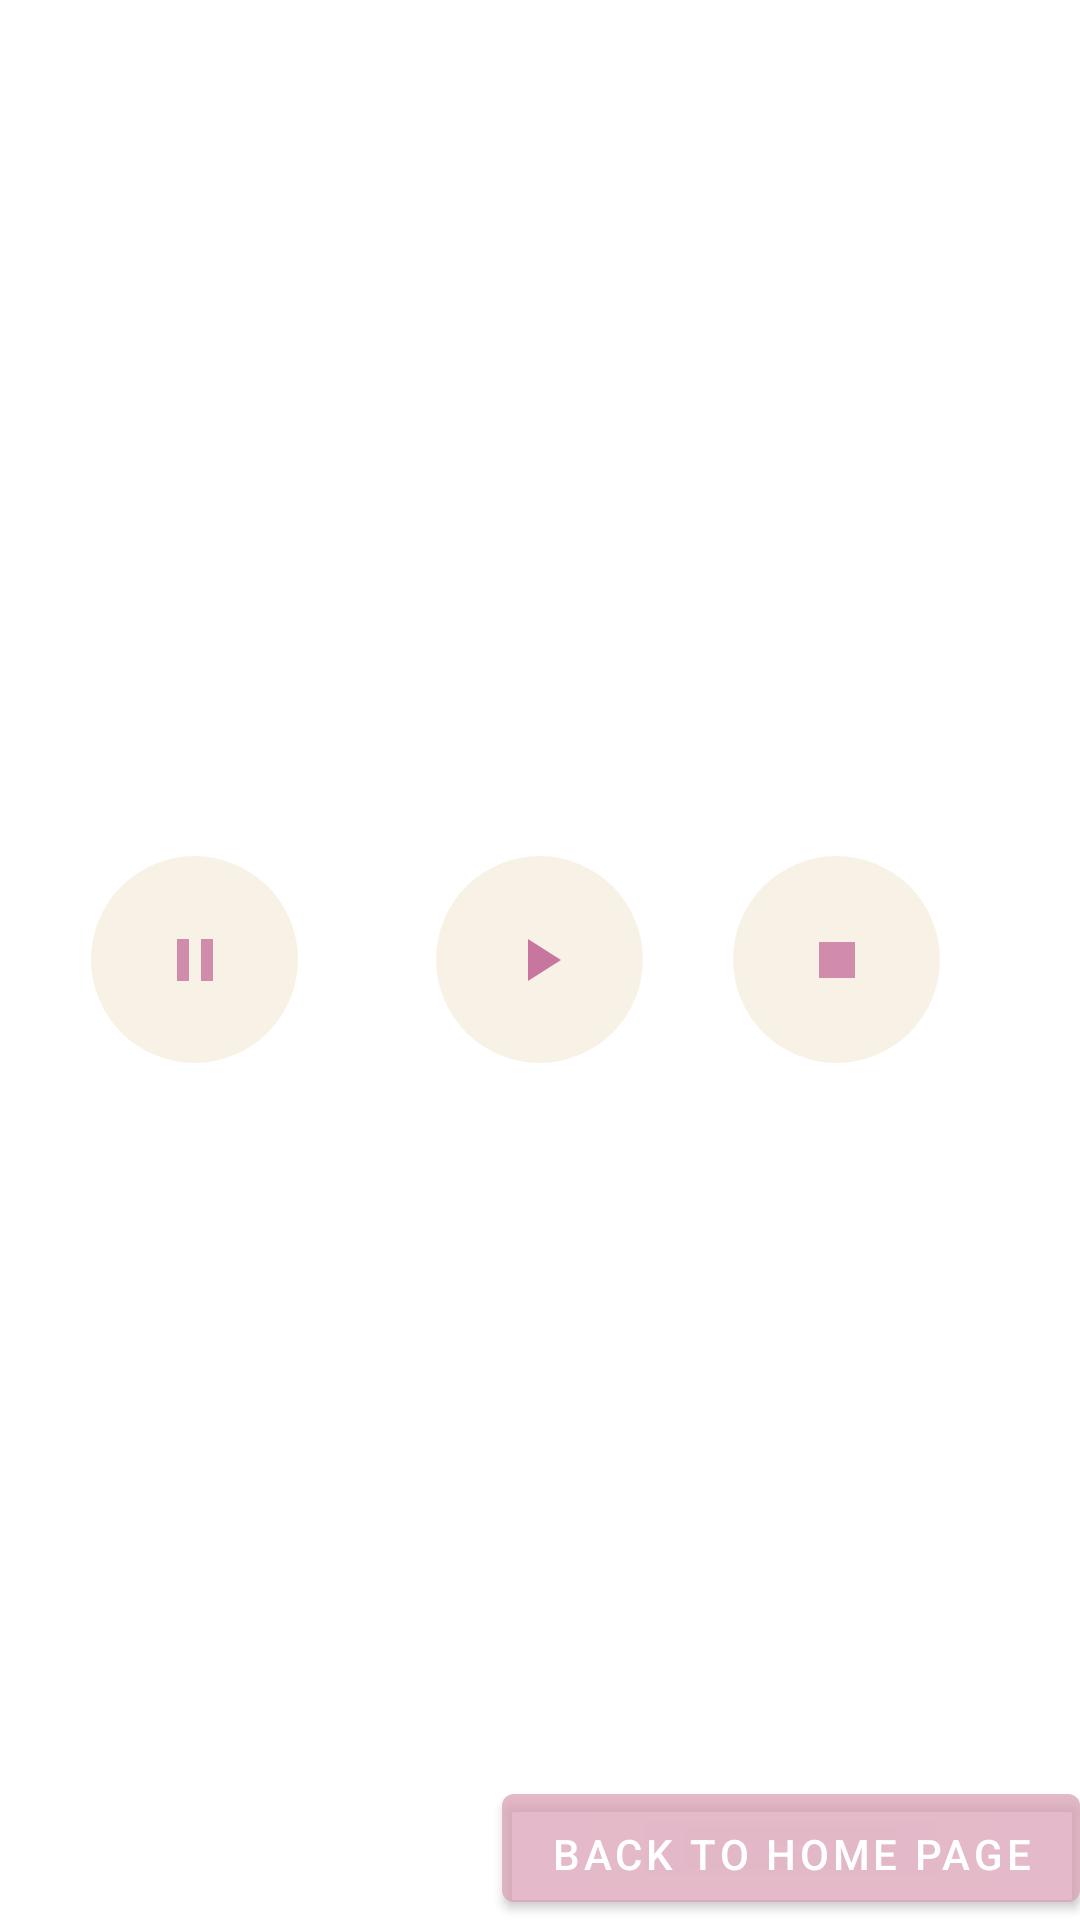

Where to tap for icons on this 1080px x 1920px app screen, as (x=x, y=y):
pause: (x=194, y=959)
play arrow: (x=539, y=959)
stop: (x=836, y=959)
